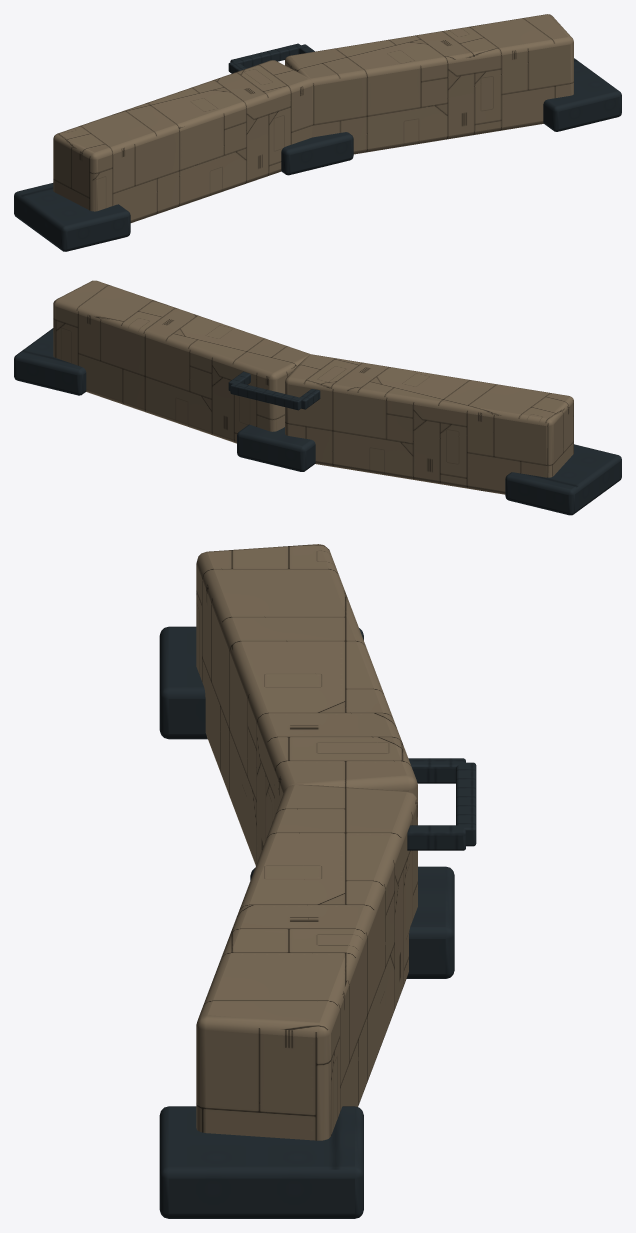
Rendered from hundred_hand_guide.glb.
3 renders of one model, top to bottom at view 1: azimuth 30°, elevation 25°; view 2: azimuth 150°, elevation 25°; view 3: azimuth 270°, elevation 25°, orthographic. The views are drawn at different scales.
Parts seen in each view (by area): view 1: LOD0_Armor, LOD0_Mechanical; view 2: LOD0_Armor, LOD0_Mechanical; view 3: LOD0_Armor, LOD0_Mechanical.
Part boxes in pixels (x1,y1,x2,y2): LOD0_Armor: (53, 14, 573, 222); LOD0_Mechanical: (14, 43, 621, 251); LOD0_Armor: (53, 280, 573, 494); LOD0_Mechanical: (14, 328, 621, 515); LOD0_Armor: (196, 544, 417, 1140); LOD0_Mechanical: (159, 626, 476, 1218).
Size of what is drawn, in the model's own units: 11.4 by 1.6 by 2.79.
Materials: 2 (2 with a texture image).
